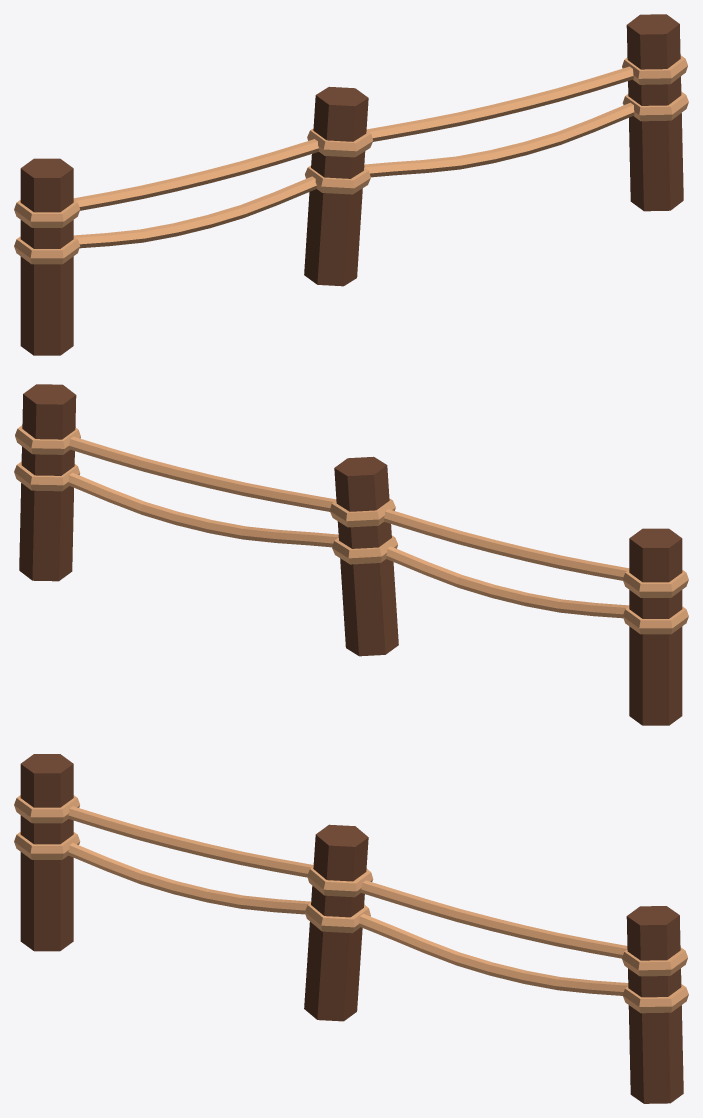
File: Large_Fence.obj
The picture shows the model from 3 angles, top to bottom: view 1: azimuth 30°, elevation 25°; view 2: azimuth 150°, elevation 25°; view 3: azimuth 330°, elevation 25°; orthographic projection.
Visible parts, largest first — view 1: PP_Small_Fence_01; view 2: PP_Small_Fence_01; view 3: PP_Small_Fence_01.
Part boxes in pixels (x1,y1,x2,y2): PP_Small_Fence_01: [14, 14, 688, 355]; PP_Small_Fence_01: [14, 384, 688, 725]; PP_Small_Fence_01: [14, 754, 688, 1103].
Bounding box in the file's own units: 1.86 × 0.4939 × 0.1619.
Materials: 1 (1 with a texture image).
